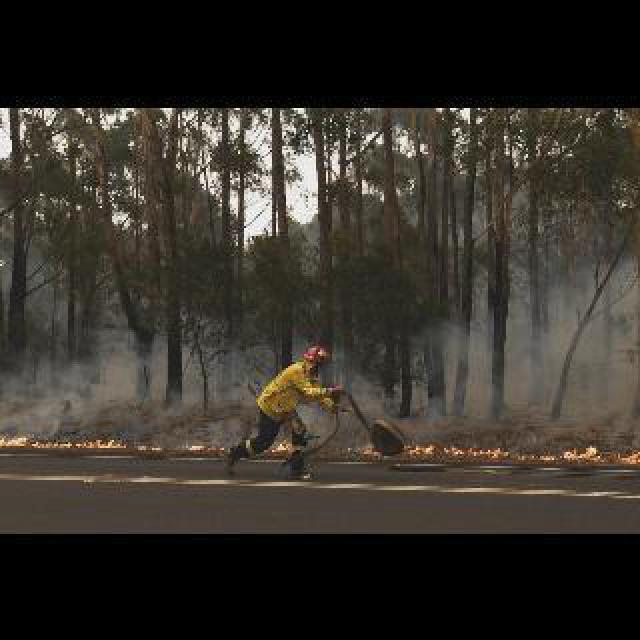Fire: (538, 442, 604, 458), (442, 442, 504, 454), (184, 440, 224, 450), (408, 440, 434, 452), (620, 446, 638, 462), (262, 442, 290, 450), (138, 444, 162, 450)
